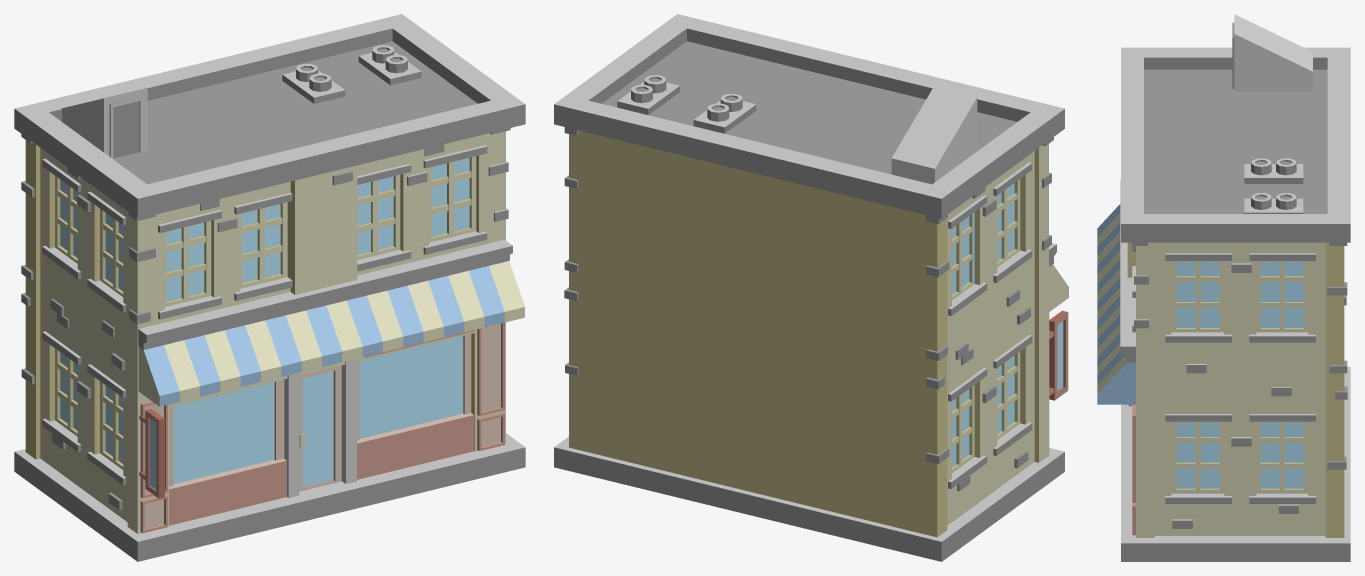
The model's file is house_small_2_005.fbx.
The picture shows the model from 3 angles, left to right: view 1: azimuth 30°, elevation 25°; view 2: azimuth 150°, elevation 25°; view 3: azimuth 270°, elevation 25°; orthographic projection. The views are drawn at different scales.
Visible parts, largest first — view 1: house_small_2_005; view 2: house_small_2_005; view 3: house_small_2_005.
Part boxes in pixels (box(x1,y1,x2,y2)): house_small_2_005: box(14, 14, 525, 561); house_small_2_005: box(554, 14, 1068, 561); house_small_2_005: box(1097, 14, 1350, 561).
Bounding box in the file's own units: 724 × 736 × 440.
